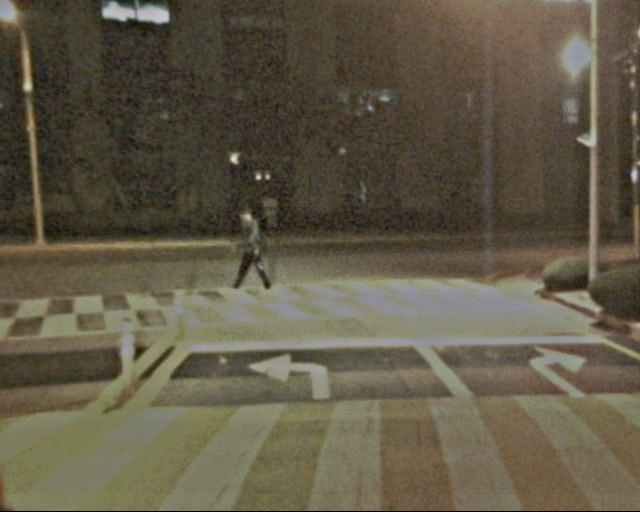person: (232, 206, 271, 301)
